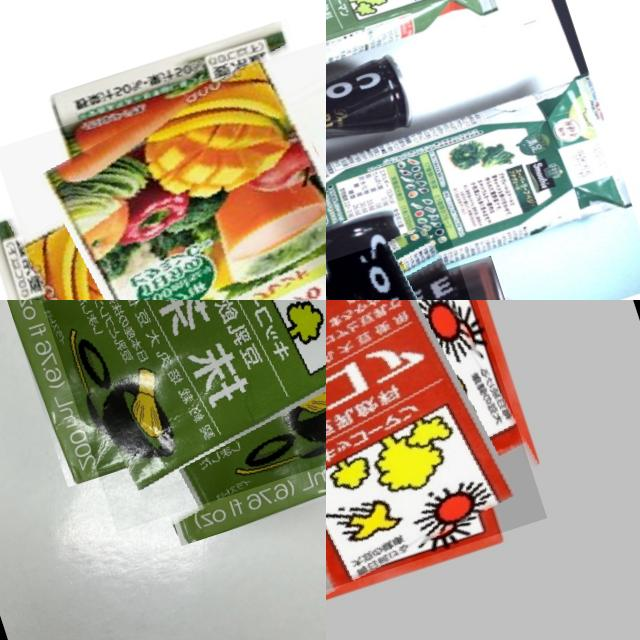Aluminium Foil: (0, 30, 326, 300), (12, 300, 326, 531), (326, 70, 633, 300), (326, 300, 547, 611), (326, 0, 500, 114)
Can: (326, 46, 423, 192), (326, 222, 499, 300)
